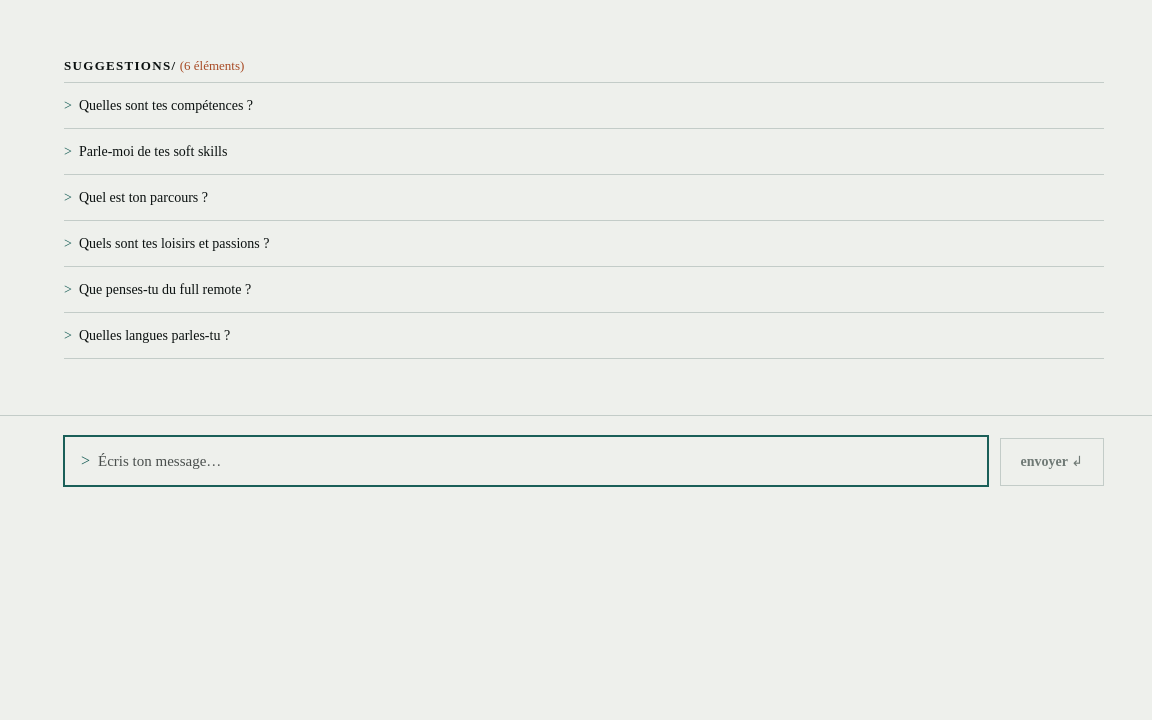
Test case: ChatInterface › affiche un message d'erreur si le streaming échoue
Type "Test" into the text box named "message à envoyer" at (534, 460), box [98, 448, 971, 472]
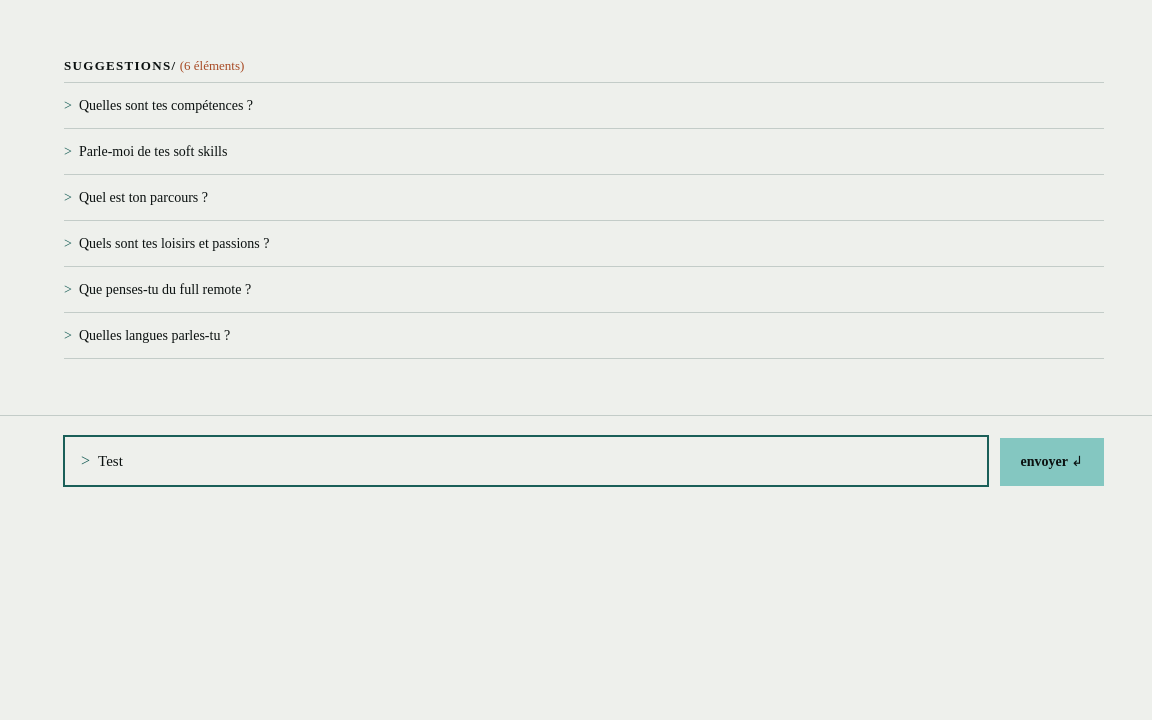
Click the button "envoyer ↲" at (1052, 462), box [1000, 438, 1104, 486]
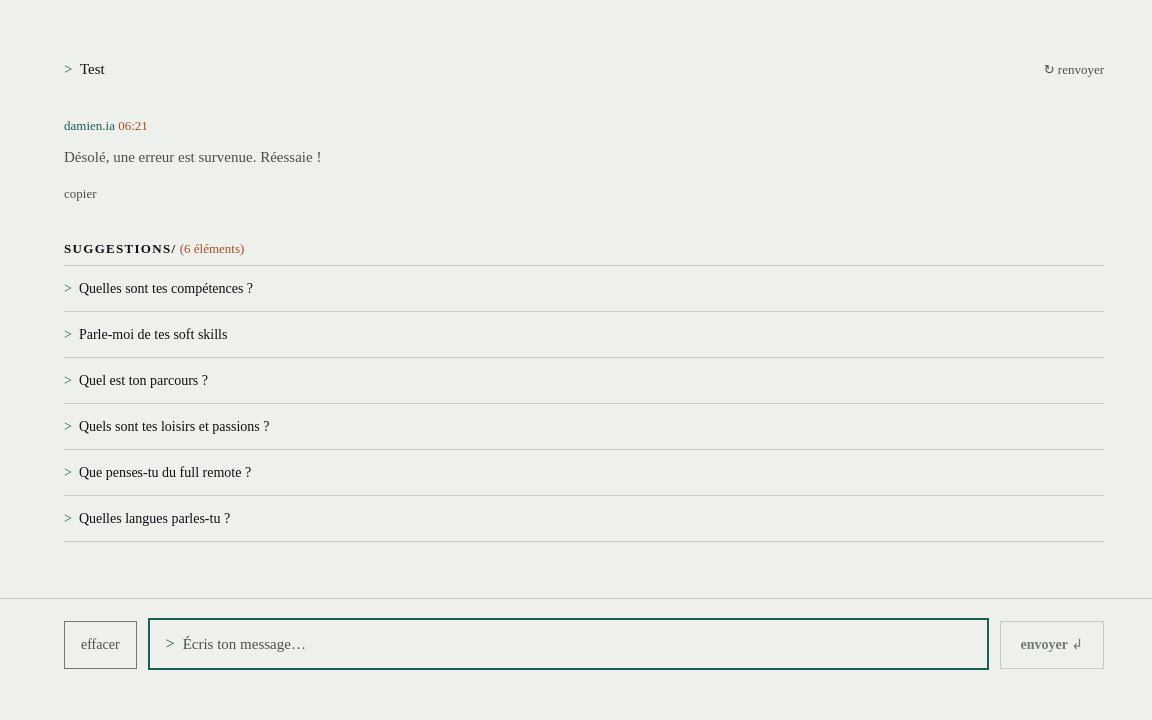
Expected: the text "Désolé, une erreur est survenue. Réessaie !" is shown, [64, 149, 321, 165]
